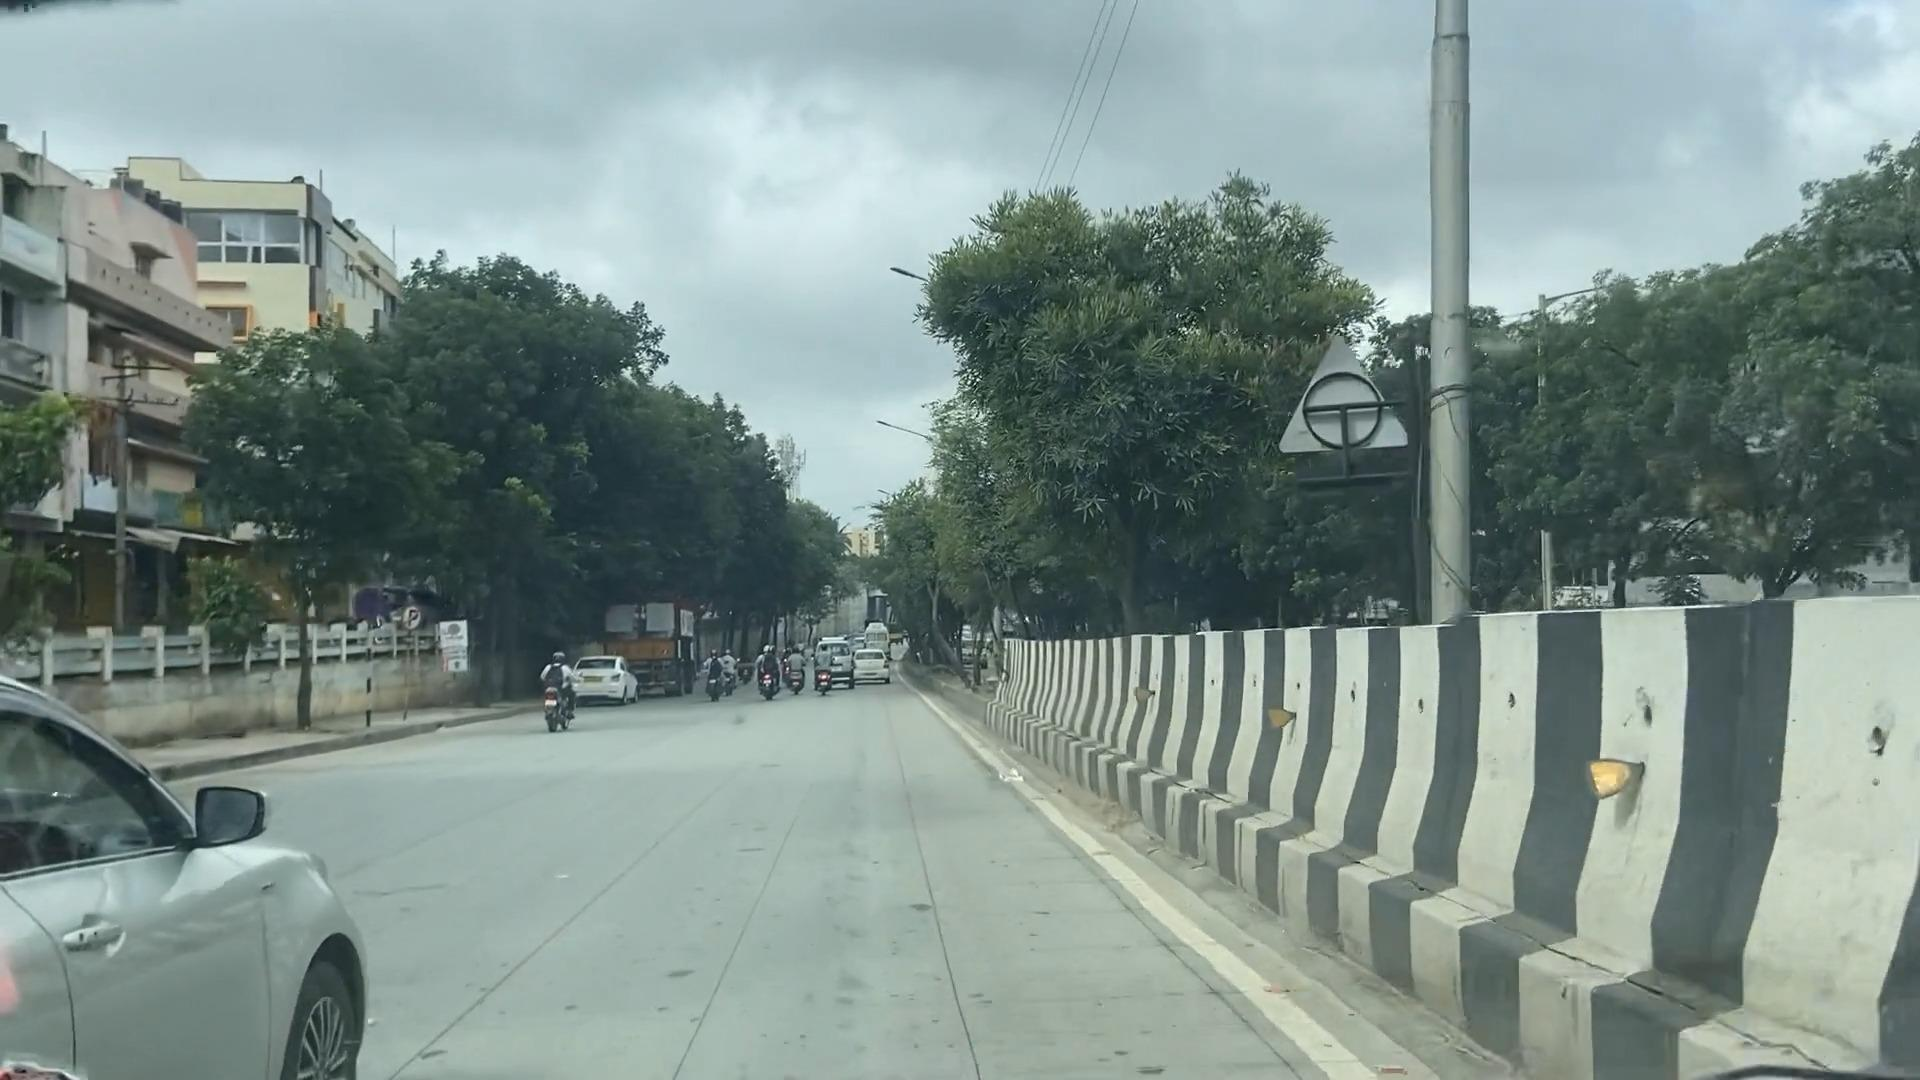LMV: (0, 688, 380, 1080)
